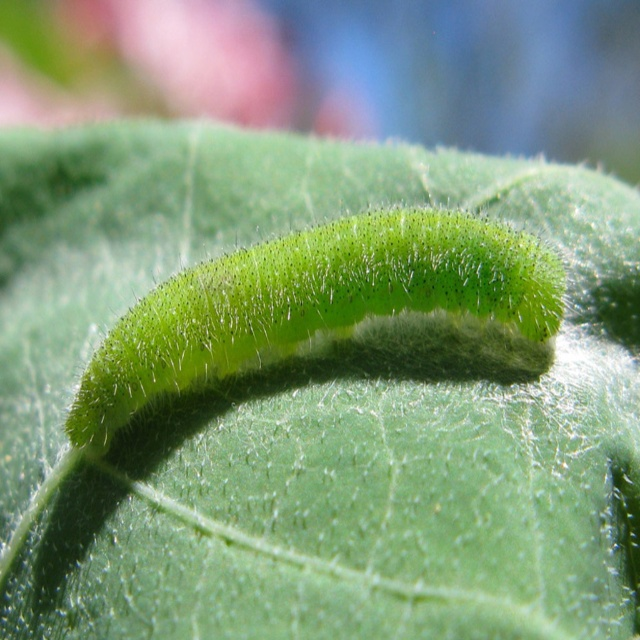Caterpillar: (58, 201, 578, 481)
